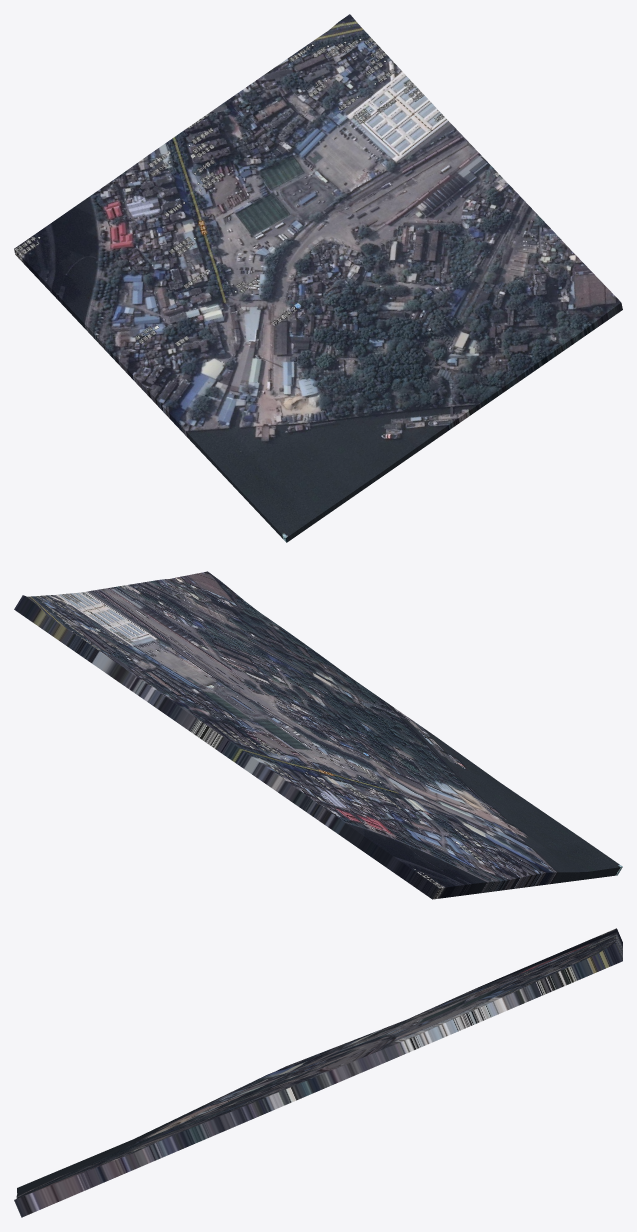
The picture shows the model from 3 angles, top to bottom: view 1: azimuth 30°, elevation 25°; view 2: azimuth 150°, elevation 25°; view 3: azimuth 270°, elevation 25°; orthographic projection. The views are drawn at different scales.
Visible parts, largest first — view 1: 0_13_4; view 2: 0_13_4; view 3: 0_13_4.
Part boxes in pixels (x1,y1,x2,y2): 0_13_4: [14, 14, 622, 542]; 0_13_4: [14, 571, 622, 899]; 0_13_4: [14, 928, 622, 1217].
Size of the model in its own units: 597 by 443 by 549.
Materials: 1 (1 with a texture image).
